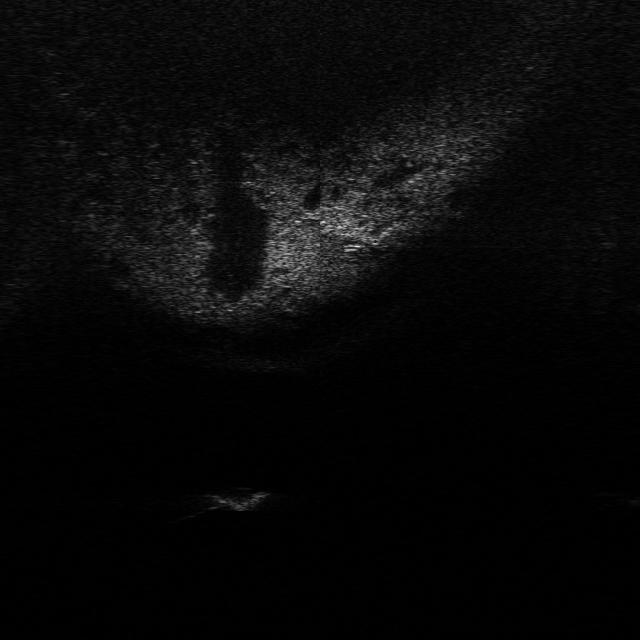cube: (216, 473, 272, 512)
